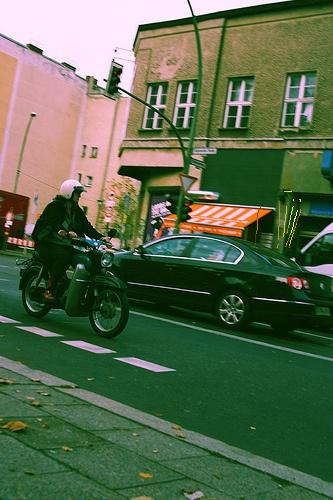tampered: (256, 192, 301, 248)
